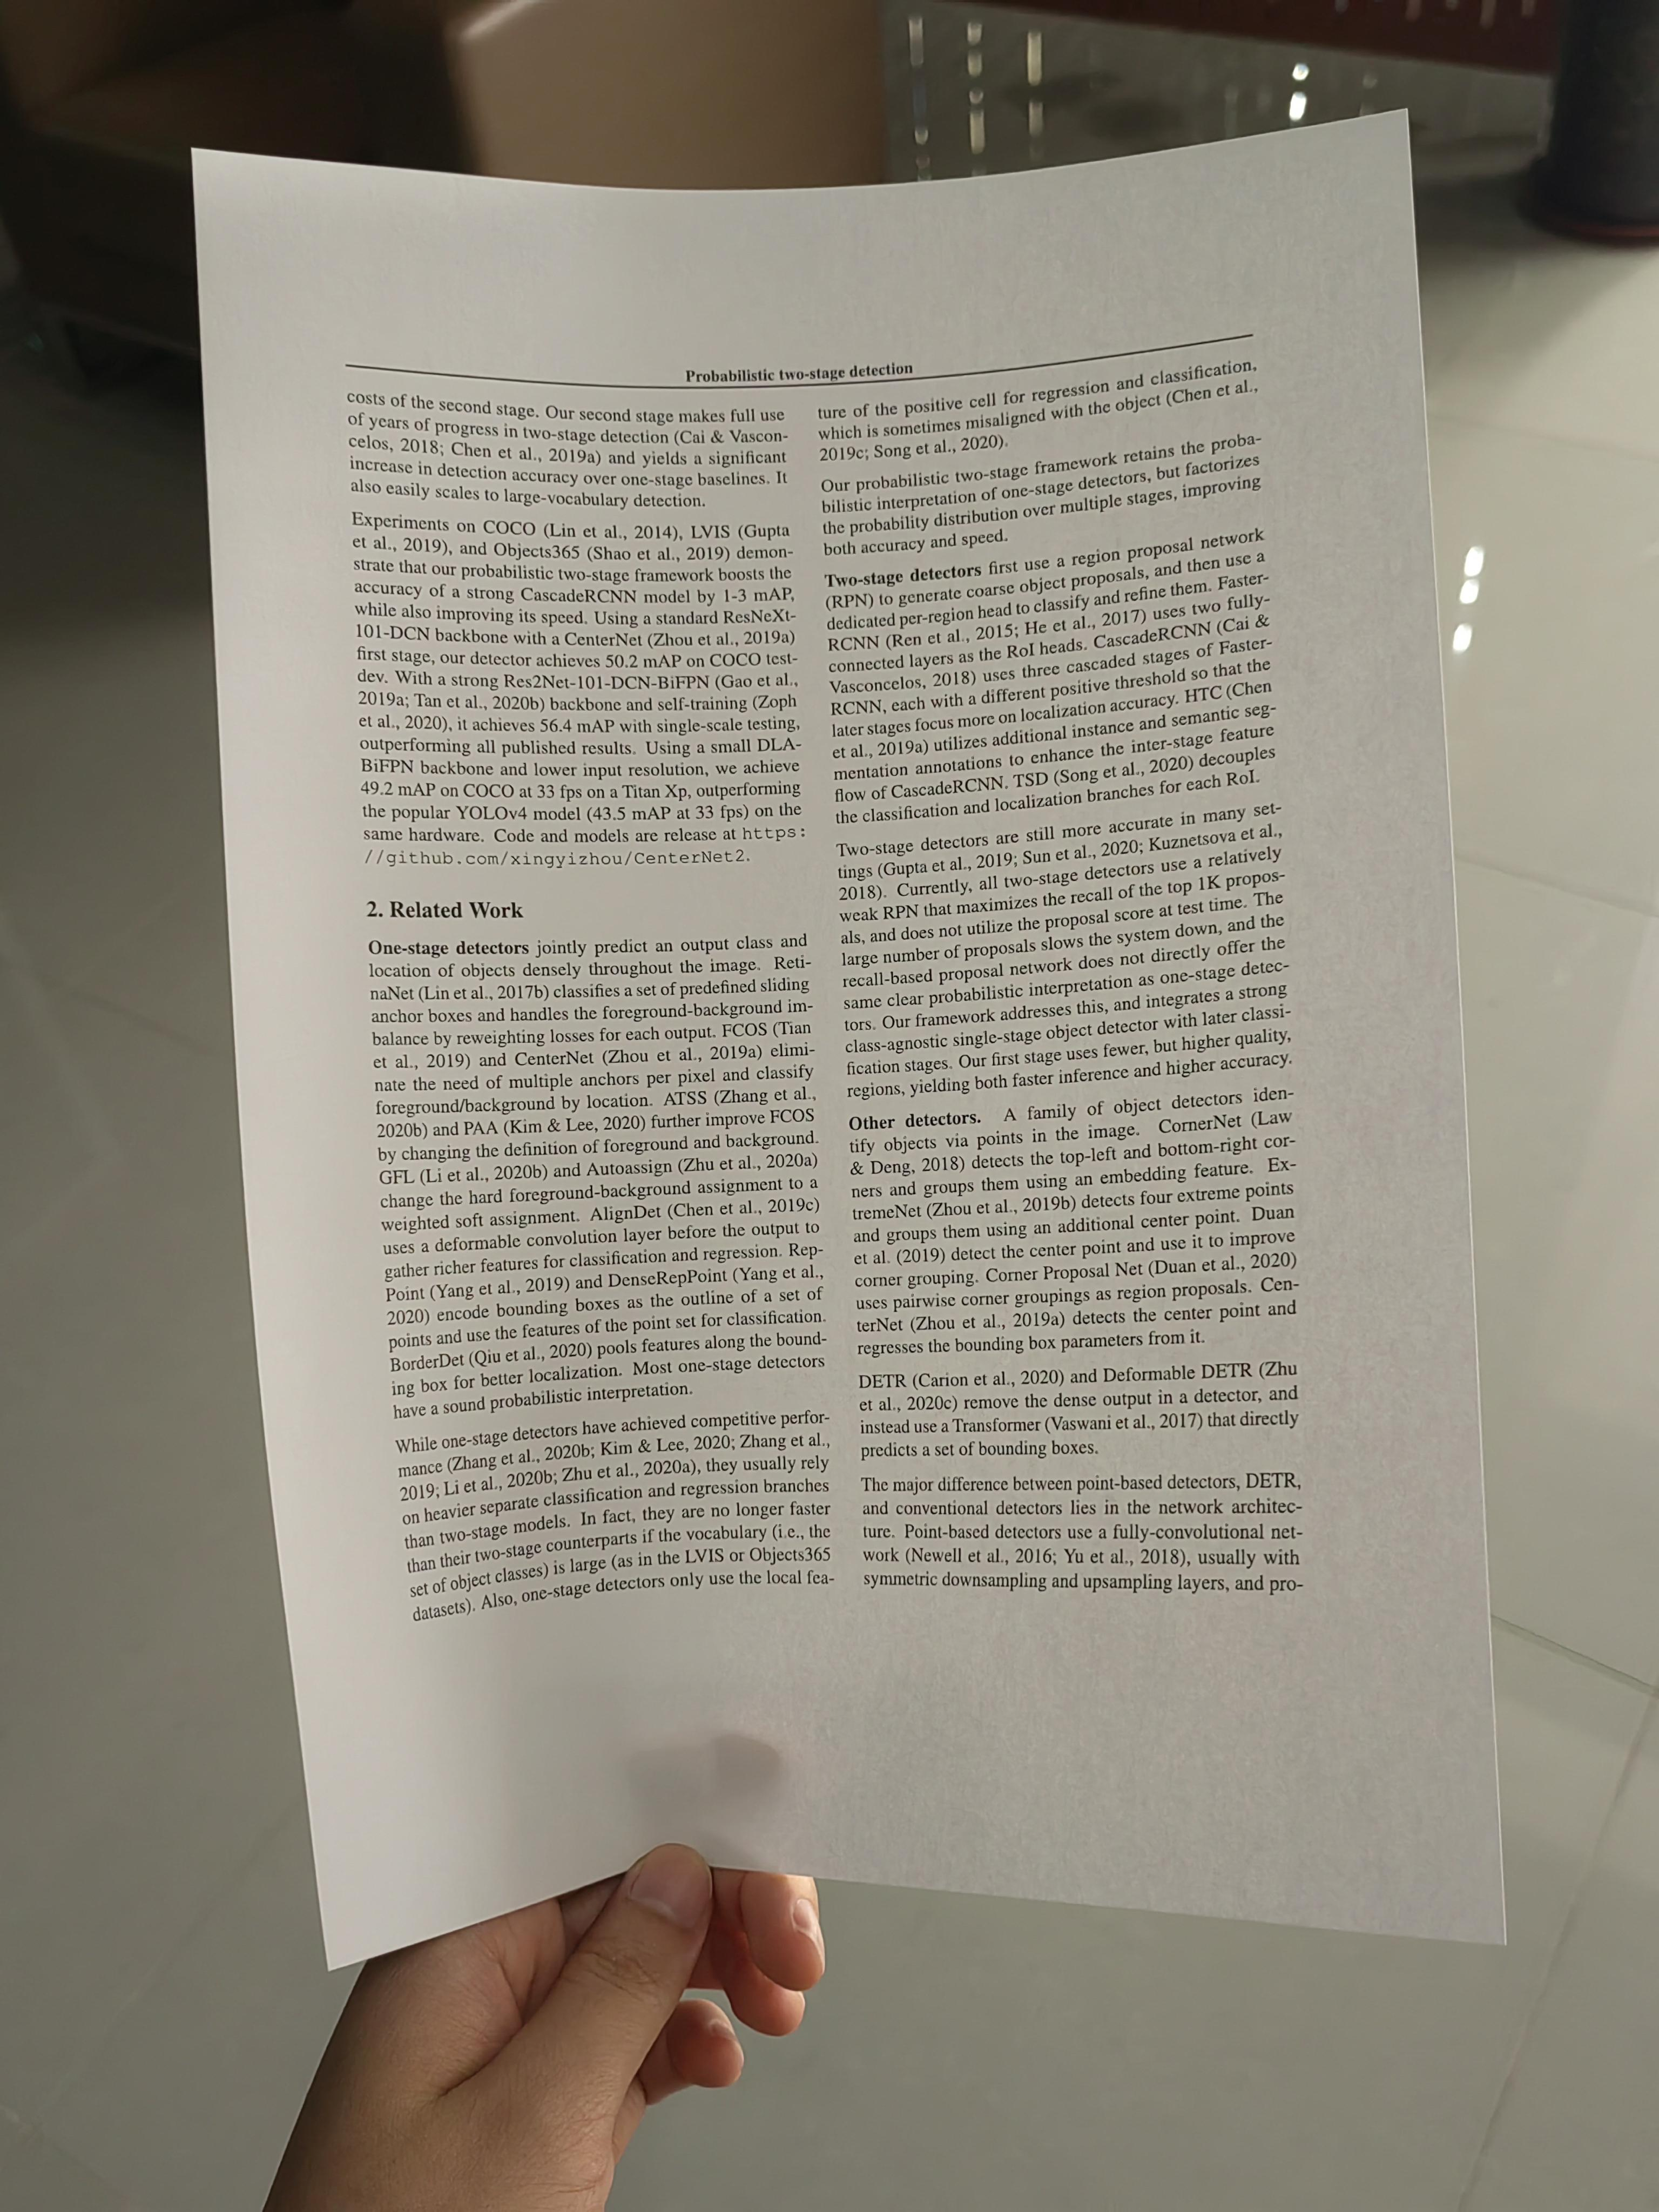paper: (35, 63, 1626, 2017)
